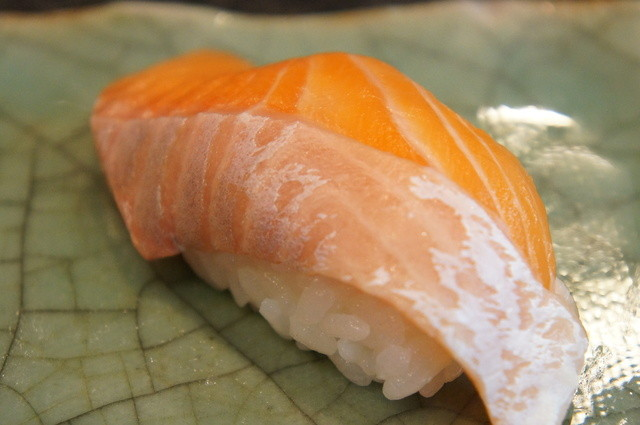salmon: (84, 42, 594, 425)
